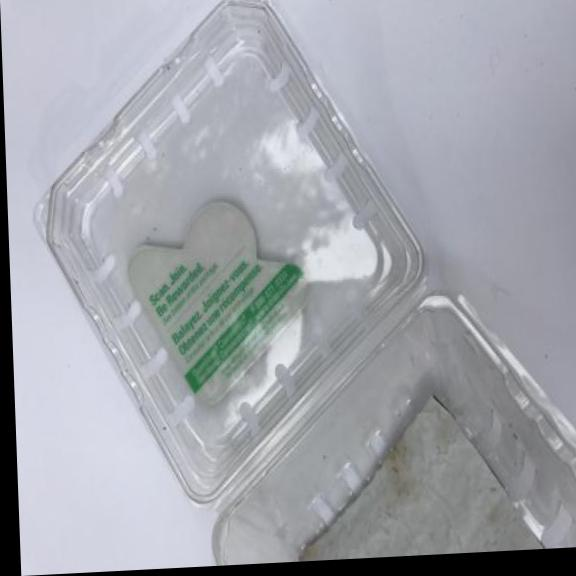Plastik: (24, 0, 576, 575)
